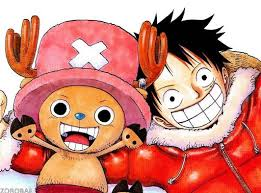chopper: (4, 13, 168, 153)
luffy: (139, 12, 260, 135)
